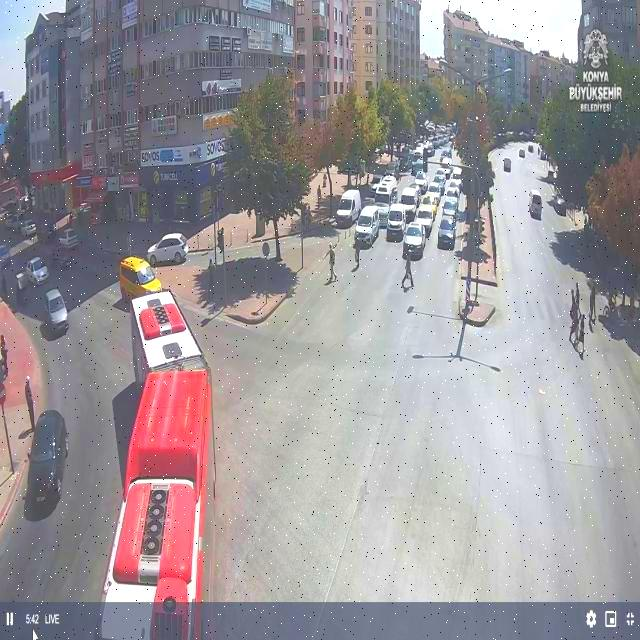Bus: (95, 283, 231, 640)
Car: (15, 392, 74, 528), (148, 233, 190, 265), (42, 289, 68, 333), (403, 223, 426, 259), (25, 256, 49, 285), (414, 206, 436, 237), (437, 217, 457, 250), (58, 229, 81, 251), (373, 200, 392, 226), (441, 197, 459, 223), (550, 193, 566, 216), (2, 215, 22, 232), (19, 220, 37, 238), (414, 172, 428, 195), (444, 185, 460, 204), (426, 181, 442, 200), (433, 168, 448, 187), (41, 221, 57, 238), (448, 178, 462, 195), (370, 175, 383, 192), (441, 157, 453, 172), (451, 167, 463, 180)
Van: (118, 255, 162, 301), (355, 206, 382, 246), (334, 190, 362, 227), (386, 203, 408, 239), (398, 187, 419, 220), (374, 176, 398, 201), (529, 190, 543, 217), (503, 158, 511, 171), (519, 148, 525, 158)
